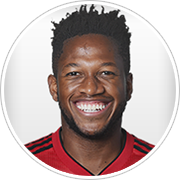smile: (69, 98, 114, 117)
